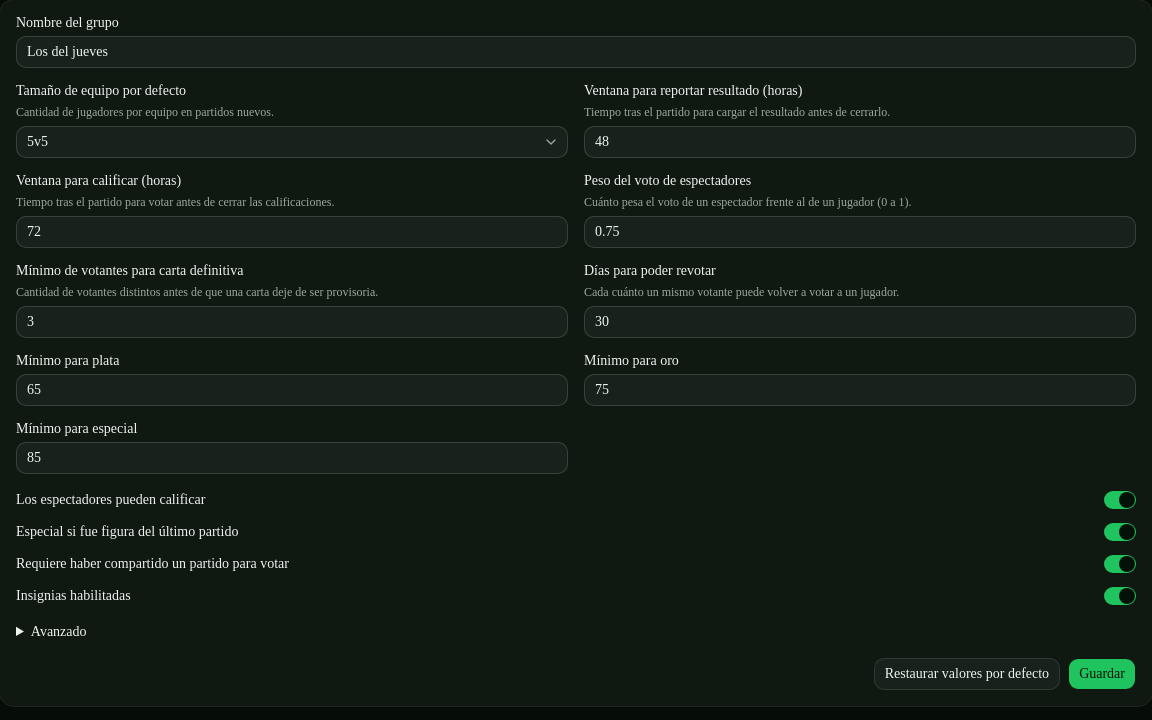
GroupSettingsForm › restores defaults on reset after a field was changed
This screenshot has width=1152, height=720.
Replace the text in the number field labelled "Ventana para reportar resultado (horas)" with "24" at (860, 142), box [584,126,1136,158]
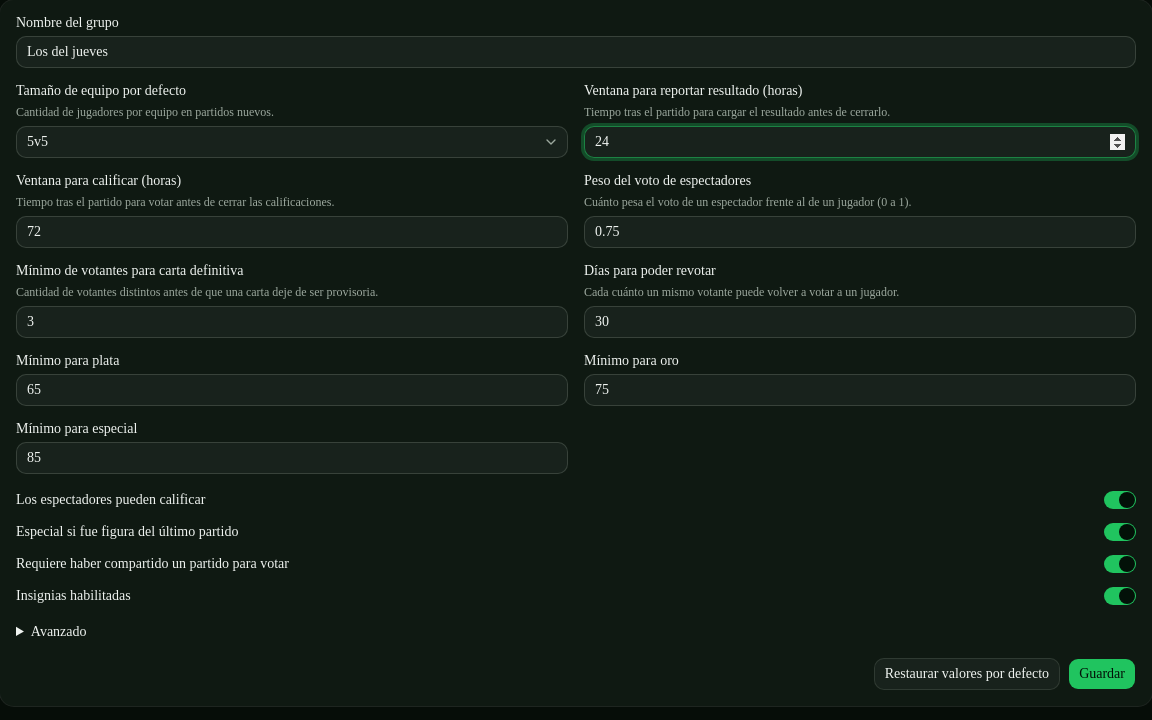
Click the button "Restaurar valores por defecto" at (967, 674), box [874,658,1060,690]
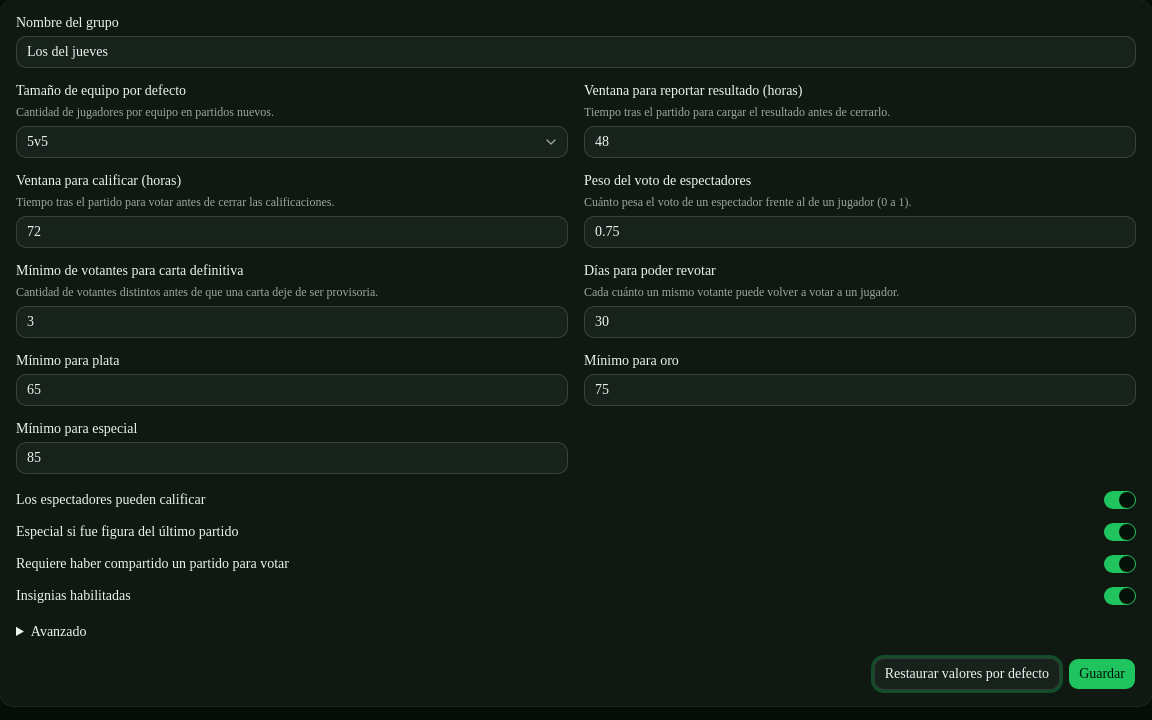
Expected: the number field labelled "Ventana para reportar resultado (horas)" holds "48", [584,126,1136,158]
